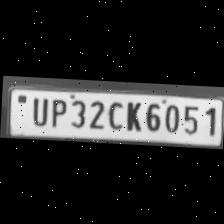0: (161, 100, 181, 132)
1: (198, 104, 219, 136)
2: (84, 96, 104, 130)
3: (64, 96, 86, 128)
5: (179, 102, 201, 134)
6: (140, 98, 162, 132)
C: (104, 97, 124, 130)
K: (122, 98, 142, 132)
P: (44, 94, 66, 128)
U: (25, 94, 47, 126)
